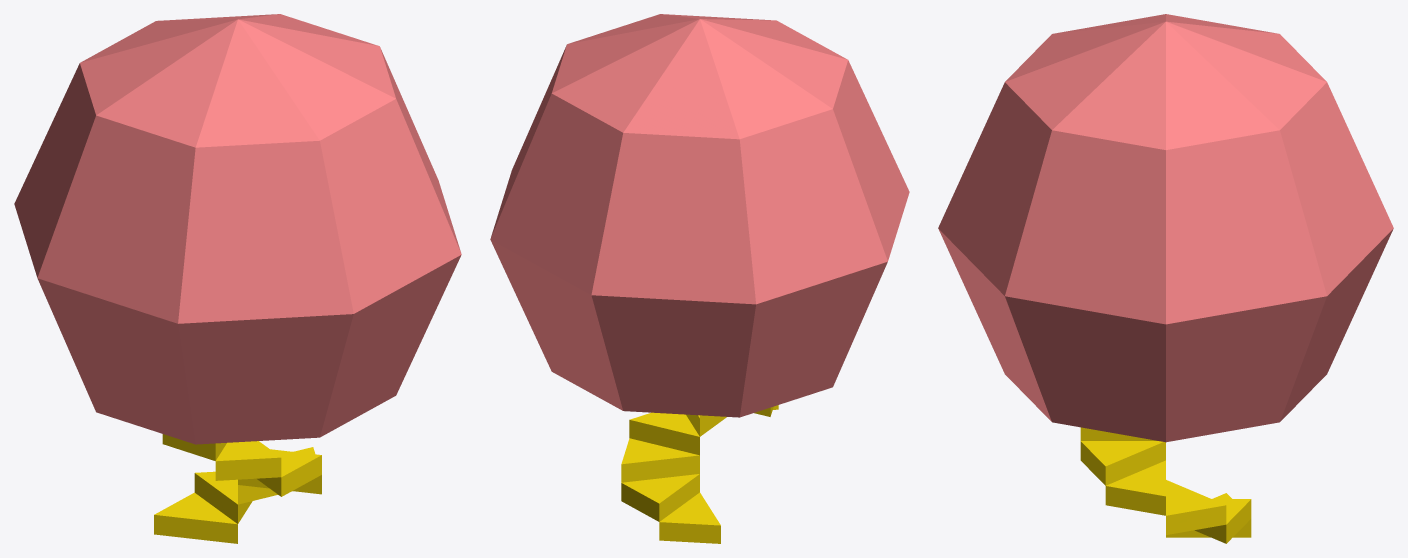
Rendered from building_townhouse-deathstar_v01.gltf.
3 views of the same model, side by side, from view 1: azimuth 30°, elevation 25°; view 2: azimuth 150°, elevation 25°; view 3: azimuth 270°, elevation 25° (orthographic). The views are drawn at different scales.
Visible parts, largest first — view 1: massing 4, massing 3, massing 2; view 2: massing 4, massing 3; view 3: massing 4, massing 3, massing 2.
Part boxes in pixels (box(x1,y1,x2,y2)): massing 4: box(14, 14, 461, 444); massing 3: box(154, 447, 321, 543); massing 2: box(162, 434, 281, 480); massing 4: box(490, 14, 909, 417); massing 3: box(621, 412, 726, 543); massing 4: box(938, 14, 1393, 442); massing 3: box(1080, 441, 1251, 543); massing 2: box(1080, 427, 1156, 440).
Size of what is drawn, in the model's own units: 16 by 19.99 by 16.
